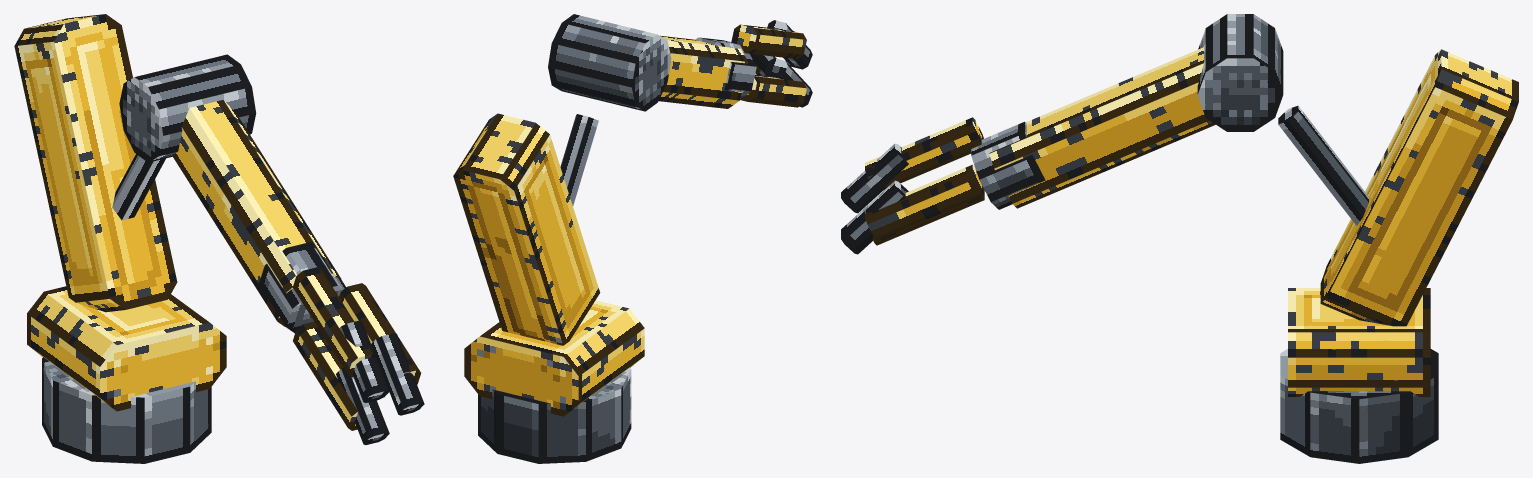
The model's file is cy_gripper.glb.
3 views of the same model, side by side, from view 1: azimuth 30°, elevation 25°; view 2: azimuth 150°, elevation 25°; view 3: azimuth 270°, elevation 25° (orthographic). The views are drawn at different scales.
Parts seen in each view (by area): view 1: boom, base, fore, turret, elbow, f1, wrist, f2, t0, f0, piston, t1 (+1 smaller); view 2: boom, base, turret, elbow, fore, f1, piston, f2, wrist, t2, t1; view 3: boom, fore, base, turret, elbow, f0, piston, wrist, f1, t1, t0.
Boxes of the visible parts, x1,y1,x2,y2 form: boom: [14, 14, 177, 312]; base: [27, 286, 226, 411]; fore: [172, 100, 341, 326]; turret: [42, 357, 211, 463]; elbow: [119, 54, 256, 162]; f1: [292, 267, 376, 377]; wrist: [259, 242, 346, 333]; f2: [293, 321, 358, 430]; t0: [371, 333, 424, 415]; f0: [339, 283, 420, 384]; piston: [112, 154, 165, 220]; t1: [339, 320, 389, 402]; boom: [453, 113, 600, 345]; base: [464, 300, 644, 416]; turret: [478, 367, 631, 463]; elbow: [548, 14, 671, 111]; fore: [658, 35, 748, 108]; f1: [731, 24, 806, 59]; piston: [560, 114, 598, 205]; f2: [740, 74, 806, 107]; wrist: [695, 37, 756, 98]; t2: [764, 58, 812, 107]; t1: [767, 20, 812, 69]; boom: [1320, 49, 1518, 326]; fore: [989, 47, 1215, 208]; base: [1288, 288, 1430, 396]; turret: [1280, 349, 1438, 463]; elbow: [1197, 14, 1283, 131]; f0: [865, 164, 984, 240]; piston: [1278, 105, 1368, 225]; wrist: [971, 121, 1045, 209]; f1: [865, 117, 983, 190]; t1: [841, 143, 908, 213]; t0: [841, 180, 908, 250].
Bounding box in the file's own units: 7 × 18.21 × 28.49.
1 material, 1 textured.
